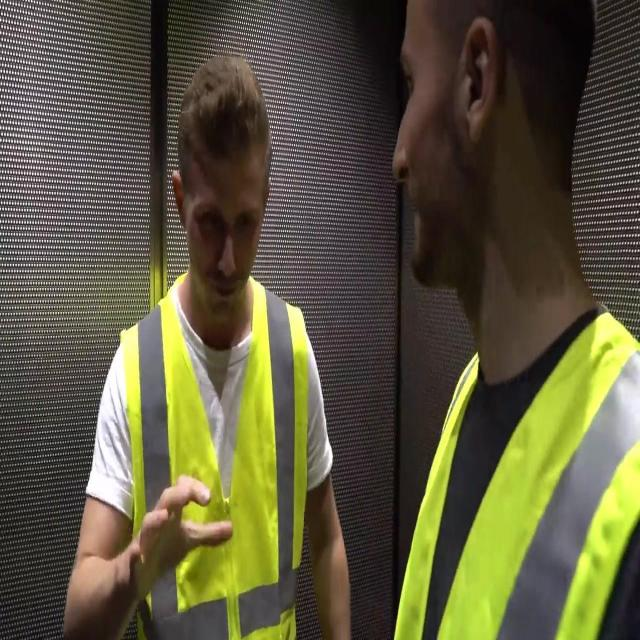vest: (392, 310, 640, 639), (119, 281, 309, 639)
